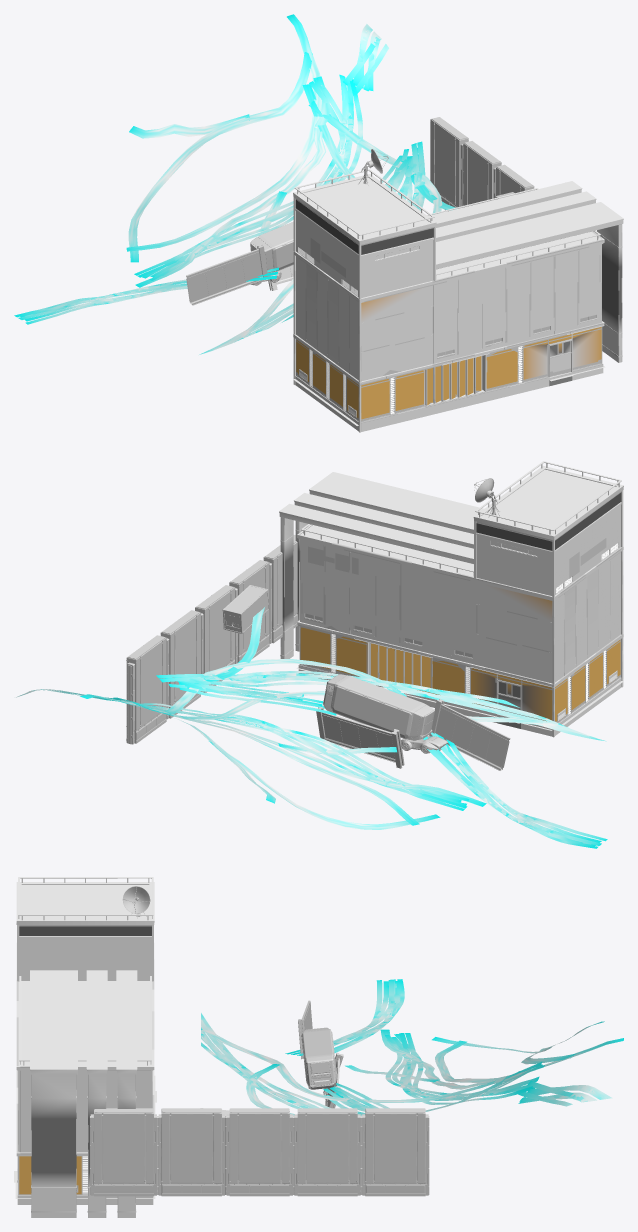
Rendered from cell_169_119.fbx.
The picture shows the model from 3 angles, top to bottom: view 1: azimuth 30°, elevation 25°; view 2: azimuth 150°, elevation 25°; view 3: azimuth 270°, elevation 25°; orthographic projection. The views are drawn at different scales.
Visible parts, largest first — view 1: SM_H_Building_FutureTech_Aerospace_01.mo.001, SpaceCenter_Long3_GenerateRoad_Sand_TireTracks_Width_Mesh_x1, SpaceCenter_Long3_GenerateRoad_Sand_TireTracks_Narrow_Mesh_x, SM_H_Building_FutureTech_Aerospace_01_Decal.mo.001, SM_H_Fence_Metal_1024x768_01.mo.117, SM_H_Fence_SoundproofWall_02.mo.105, SM_H_Fence_Metal_1024x768_01.mo.120, SM_H_FutureTech_Vehicle_DriverlessVans_01.mo.016, SM_H_Fence_Metal_1024x768_01.mo.121; view 2: SM_H_Building_FutureTech_Aerospace_01.mo.001, SpaceCenter_Long3_GenerateRoad_Sand_TireTracks_Narrow_Mesh_x, SpaceCenter_Long3_GenerateRoad_Sand_TireTracks_Width_Mesh_x1, SM_H_Building_FutureTech_Aerospace_01_Decal.mo.001, SM_H_FutureTech_Vehicle_DriverlessVans_01.mo.016, SM_H_Fence_Metal_1024x768_01.mo.117, SM_H_Fence_SoundproofWall_02.mo.105, SM_H_Fence_Metal_1024x768_01.mo.120, SM_H_Fence_Metal_1024x768_01.mo.121, SM_H_Fence_SoundproofWall_02.mo.106, SM_H_Fence_Metal_1024x768_01.mo.244, SM_H_Fence_Metal_1024x768_01.mo.242 (+2 smaller); view 3: SM_H_Building_FutureTech_Aerospace_01.mo.001, SpaceCenter_Long3_GenerateRoad_Sand_TireTracks_Narrow_Mesh_x, SM_H_Fence_Metal_1024x768_01.mo.117, SM_H_Fence_Metal_1024x768_01.mo.120, SM_H_Fence_Metal_1024x768_01.mo.121, SM_H_Fence_Metal_1024x768_01.mo.242, SM_H_Fence_Metal_1024x768_01.mo.244, SpaceCenter_Long3_GenerateRoad_Sand_TireTracks_Width_Mesh_x1, SM_H_FutureTech_Vehicle_DriverlessVans_01.mo.016, SM_H_Building_FutureTech_Aerospace_01_Decal.mo.001, SM_H_FutureTech_Furniture_Radar_01.mo.013.
Boxes of the visible parts, x1,y1,x2,y2 form: SM_H_Building_FutureTech_Aerospace_01.mo.001: (293,169,623,432); SpaceCenter_Long3_GenerateRoad_Sand_TireTracks_Width_Mesh_x1: (126,14,457,342); SpaceCenter_Long3_GenerateRoad_Sand_TireTracks_Narrow_Mesh_x: (14,24,425,354); SM_H_Building_FutureTech_Aerospace_01_Decal.mo.001: (293,231,622,430); SM_H_Fence_Metal_1024x768_01.mo.117: (430,117,468,211); SM_H_Fence_SoundproofWall_02.mo.105: (186,244,267,305); SM_H_Fence_Metal_1024x768_01.mo.120: (463,141,501,207); SM_H_FutureTech_Vehicle_DriverlessVans_01.mo.016: (250,221,293,272); SM_H_Fence_Metal_1024x768_01.mo.121: (495,164,534,195); SM_H_Building_FutureTech_Aerospace_01.mo.001: (279,461,623,737); SpaceCenter_Long3_GenerateRoad_Sand_TireTracks_Narrow_Mesh_x: (16,671,607,848); SpaceCenter_Long3_GenerateRoad_Sand_TireTracks_Width_Mesh_x1: (80,607,568,829); SM_H_Building_FutureTech_Aerospace_01_Decal.mo.001: (280,517,623,735); SM_H_FutureTech_Vehicle_DriverlessVans_01.mo.016: (323,674,434,740); SM_H_Fence_Metal_1024x768_01.mo.117: (126,635,166,744); SM_H_Fence_SoundproofWall_02.mo.105: (429,699,510,770); SM_H_Fence_Metal_1024x768_01.mo.120: (160,610,200,719); SM_H_Fence_Metal_1024x768_01.mo.121: (195,585,235,692); SM_H_Fence_SoundproofWall_02.mo.106: (316,706,395,762); SM_H_Fence_Metal_1024x768_01.mo.244: (263,535,297,643); SM_H_Fence_Metal_1024x768_01.mo.242: (229,560,269,663); SM_H_Building_FutureTech_Aerospace_01.mo.001: (14,877,156,1217); SpaceCenter_Long3_GenerateRoad_Sand_TireTracks_Narrow_Mesh_x: (201,979,612,1115); SM_H_Fence_Metal_1024x768_01.mo.117: (361,1108,429,1196); SM_H_Fence_Metal_1024x768_01.mo.120: (293,1108,361,1196); SM_H_Fence_Metal_1024x768_01.mo.121: (225,1108,293,1196); SM_H_Fence_Metal_1024x768_01.mo.242: (158,1108,225,1196); SM_H_Fence_Metal_1024x768_01.mo.244: (90,1108,157,1196); SpaceCenter_Long3_GenerateRoad_Sand_TireTracks_Width_Mesh_x1: (201,1021,623,1115); SM_H_FutureTech_Vehicle_DriverlessVans_01.mo.016: (301,1027,337,1089); SM_H_Building_FutureTech_Aerospace_01_Decal.mo.001: (16,959,154,1217); SM_H_FutureTech_Furniture_Radar_01.mo.013: (122,886,150,918).
Bounding box in the file's own units: 61.58 × 28.88 × 69.
